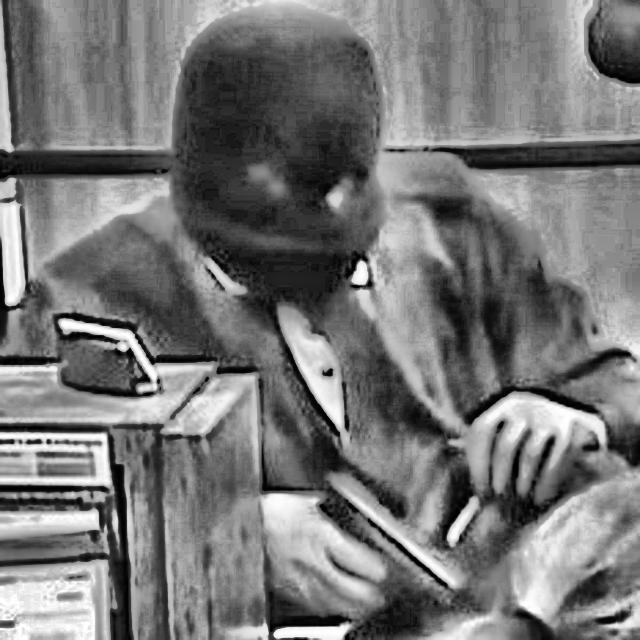robbery: (5, 2, 640, 640)
